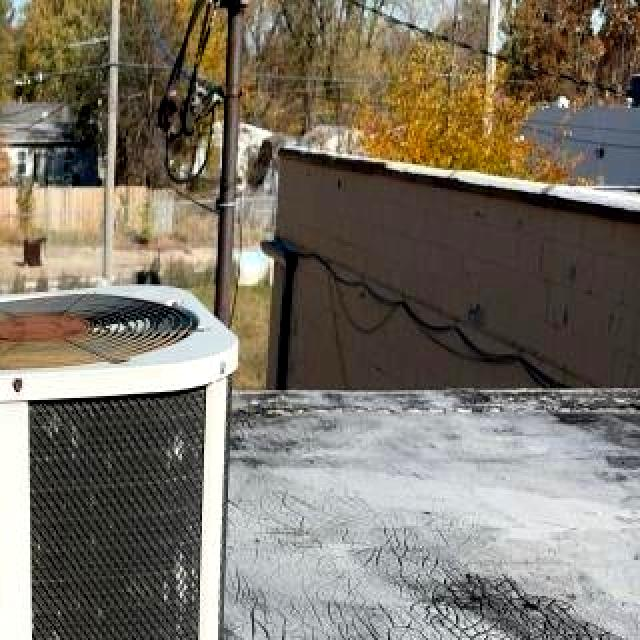SPLIT-SYSTEM: (0, 240, 270, 640)
